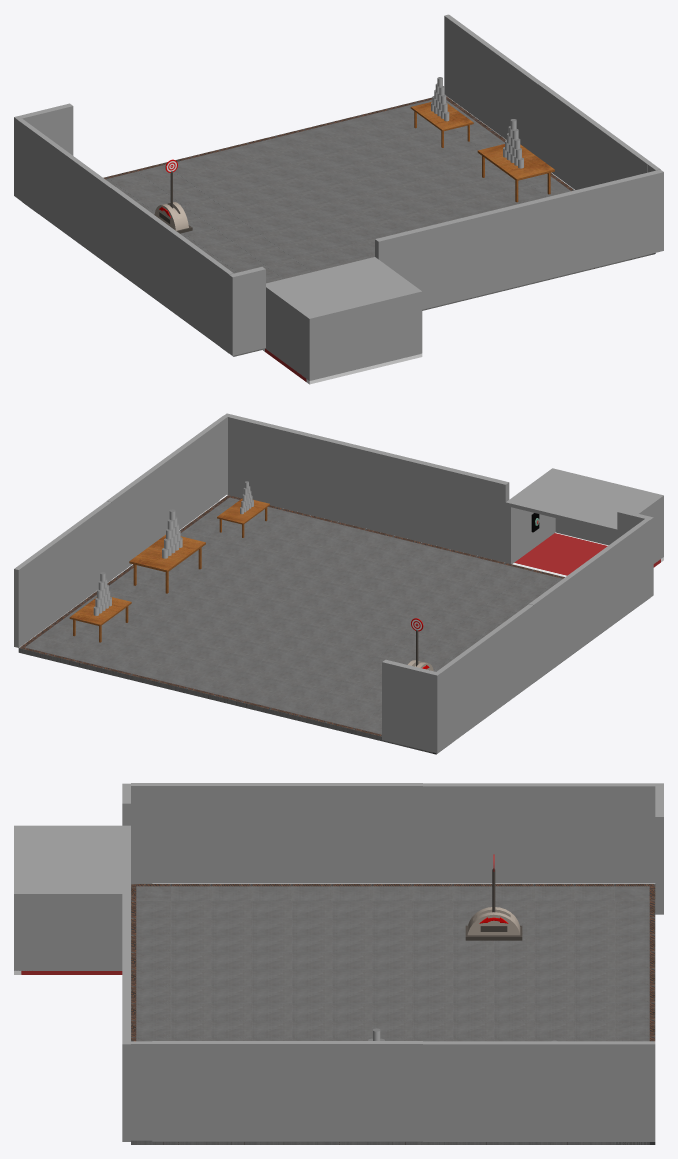
Rendered from sala2_completa.fbx.
The picture shows the model from 3 angles, top to bottom: view 1: azimuth 30°, elevation 25°; view 2: azimuth 150°, elevation 25°; view 3: azimuth 270°, elevation 25°; orthographic projection. The views are drawn at different scales.
Visible parts, largest first — view 1: suelo_sala_2, pared77, pared76, pared75, pared3, techo, pared1, pared87, mesa (×2), pared89, pared88, base (+1 smaller); view 2: suelo_sala_2, pared77, pared76, pared75, techo, pared89, mesa (×3), suelo, pared2, pared1, pared3, pared87 (+1 smaller); view 3: suelo_sala_2, pared75, pared76, pared2, techo, pared77, pared88, base, pared89.
Part boxes in pixels (x1=…): suelo_sala_2: x1=22, y1=96, x2=655, y2=356; pared77: x1=375, y1=163, x2=663, y2=309; pared76: x1=17, y1=118, x2=224, y2=346; pared75: x1=444, y1=14, x2=651, y2=190; pared3: x1=311, y1=295, x2=420, y2=380; techo: x1=266, y1=257, x2=422, y2=319; pared1: x1=265, y1=283, x2=314, y2=380; pared87: x1=229, y1=266, x2=265, y2=355; mesa (×2): x1=410, y1=102, x2=554, y2=180; pared89: x1=14, y1=103, x2=73, y2=197; pared88: x1=220, y1=267, x2=233, y2=353; base: x1=154, y1=202, x2=192, y2=233; suelo_sala_2: x1=18, y1=495, x2=640, y2=754; pared77: x1=215, y1=413, x2=509, y2=562; pared76: x1=436, y1=525, x2=641, y2=750; pared75: x1=14, y1=422, x2=219, y2=647; techo: x1=505, y1=468, x2=663, y2=532; pared89: x1=382, y1=659, x2=440, y2=753; mesa (×3): x1=69, y1=498, x2=269, y2=626; suelo: x1=512, y1=532, x2=663, y2=576; pared2: x1=505, y1=506, x2=555, y2=563; pared1: x1=612, y1=494, x2=663, y2=563; pared3: x1=555, y1=518, x2=611, y2=545; pared87: x1=617, y1=509, x2=653, y2=597; suelo_sala_2: x1=131, y1=884, x2=655, y2=1144; pared75: x1=152, y1=1041, x2=655, y2=1141; pared76: x1=152, y1=783, x2=655, y2=883; pared2: x1=14, y1=894, x2=122, y2=970; techo: x1=14, y1=825, x2=130, y2=893; pared77: x1=122, y1=872, x2=152, y2=1141; pared88: x1=131, y1=783, x2=152, y2=883; base: x1=465, y1=907, x2=522, y2=940; pared89: x1=655, y1=783, x2=663, y2=914.
Bounding box in the file's own units: 0.4629 × 0.0858 × 0.4873.
